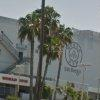Tree: (9, 8, 76, 68)
